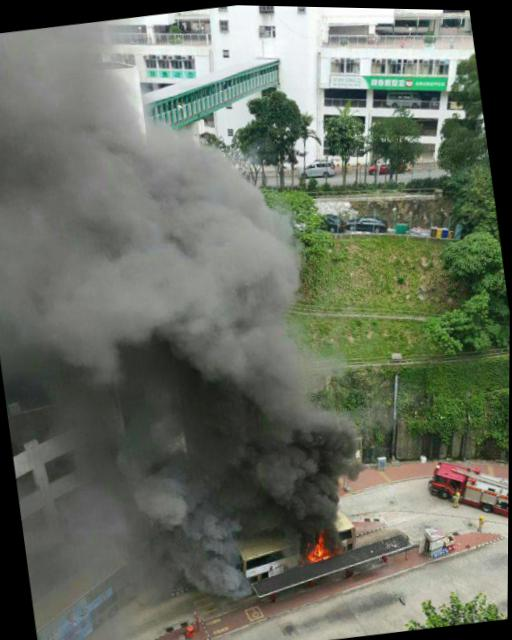fire: (304, 531, 334, 562)
